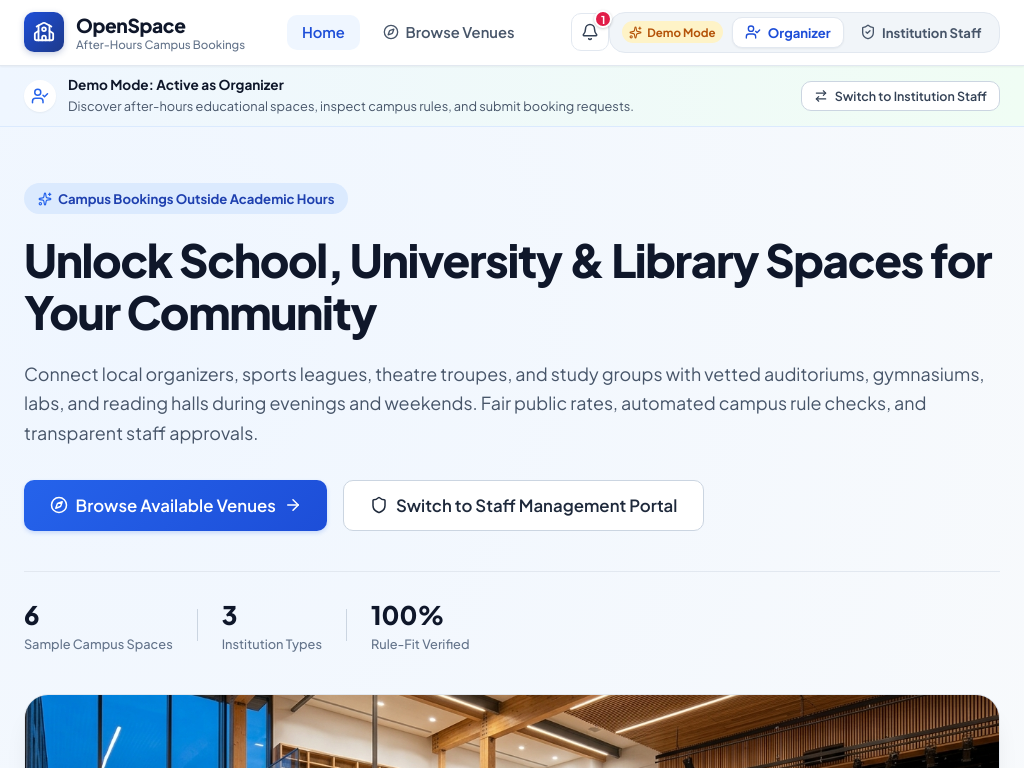
Test: App Navigation and Shell Integration › navigates to Browse Venues page from the main navigation
The image size is (1024, 768).
What coordinates should you click on to do the following:
click the button "Browse Venues"
I would click on:
 (449, 32)
Its box is [368,15,530,50].
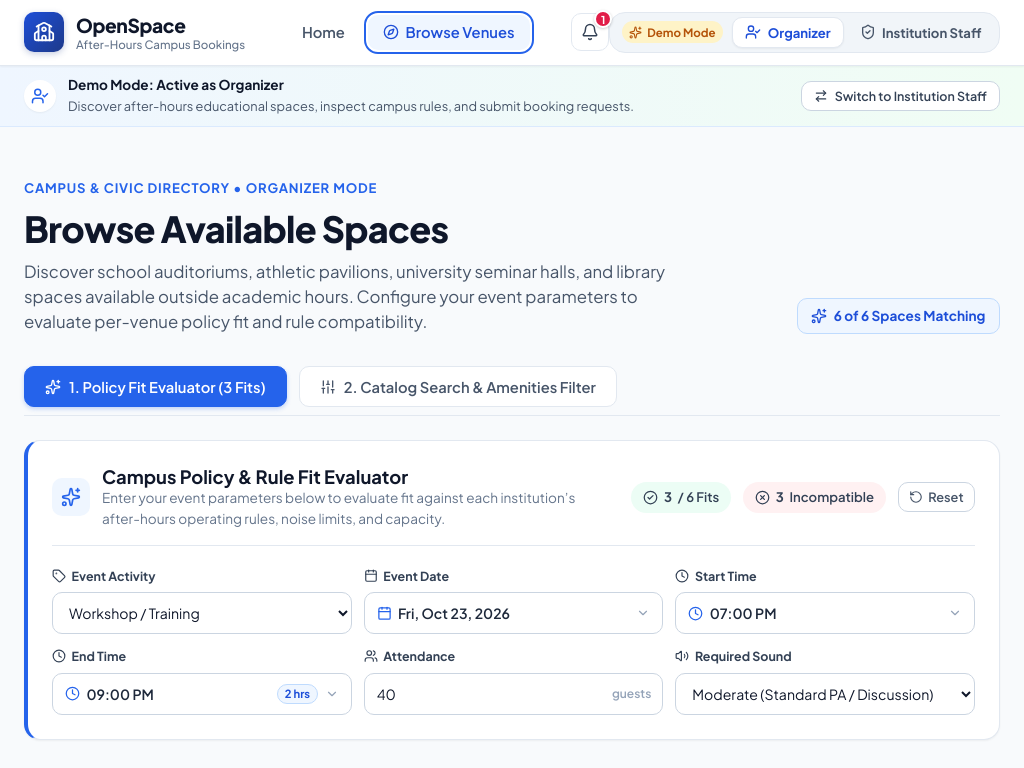
Check: the heading "Browse Available Spaces" is shown, box [24,206,448,251]
Check: the text "6 of 6 Spaces Matching" is shown, box [834,306,985,326]
